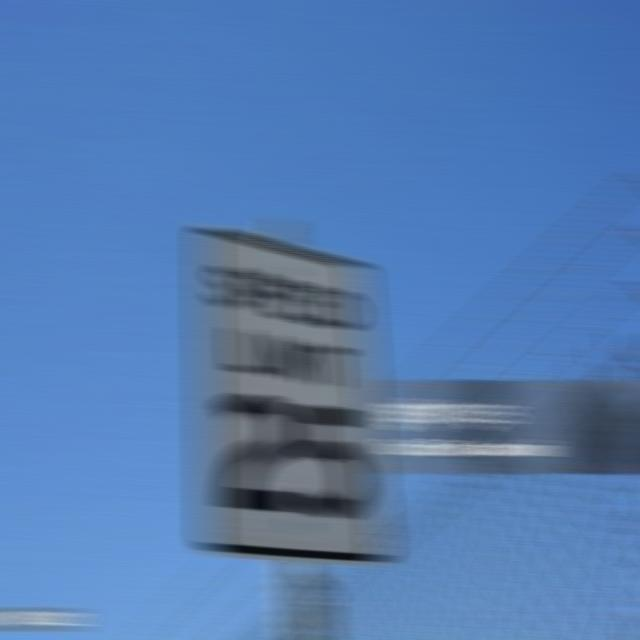speedLimit25: (194, 218, 398, 571)
